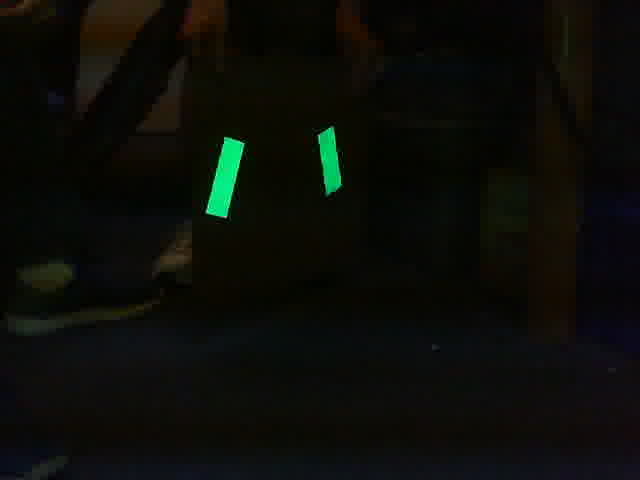target: (201, 125, 346, 224)
